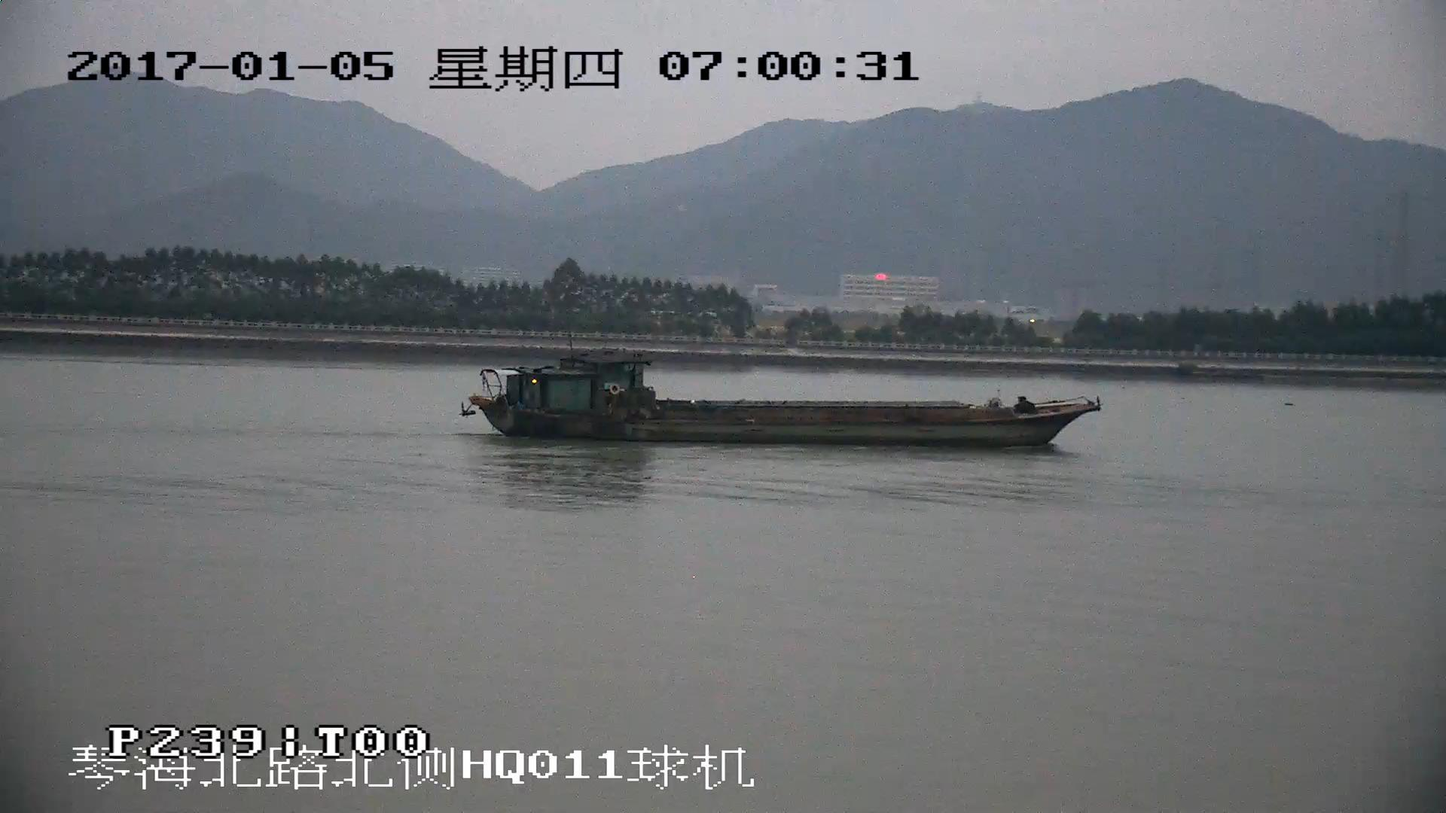bulk cargo carrier: (459, 356, 1101, 450)
